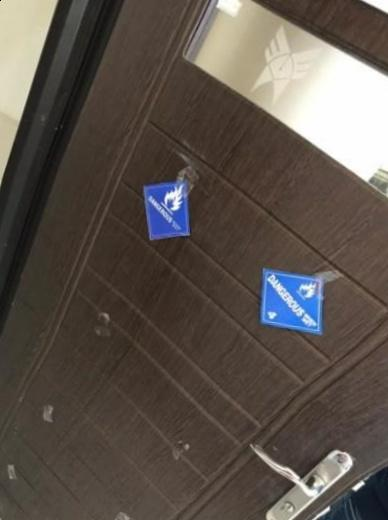dangerous-when-wet: (260, 270, 329, 338), (142, 184, 194, 246)
